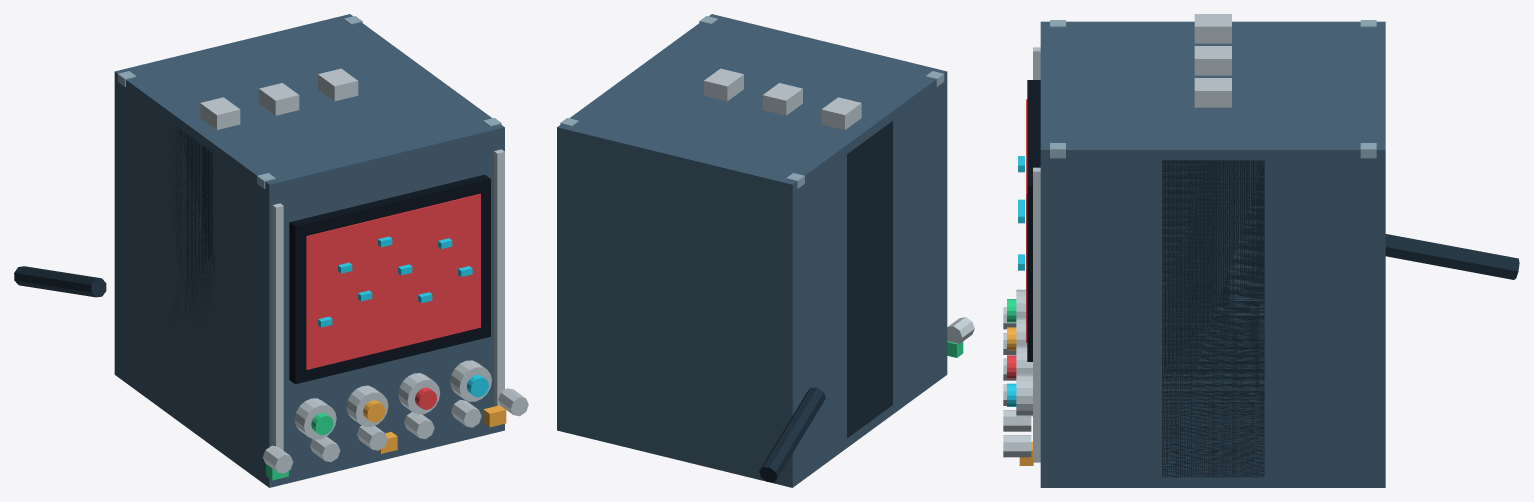
Rendered from 58_L80_EmergencyOpticalShutterStation.fbx.
3 views of the same model, side by side, from view 1: azimuth 30°, elevation 25°; view 2: azimuth 150°, elevation 25°; view 3: azimuth 270°, elevation 25° (orthographic). The views are drawn at different scales.
Parts seen in each view (by area): view 1: EmergencyOpticalShutterStation, EmergencyOpticalShutterStation_Part_0035; view 2: EmergencyOpticalShutterStation, EmergencyOpticalShutterStation_Part_0035; view 3: EmergencyOpticalShutterStation, EmergencyOpticalShutterStation_Part_0035.
Part boxes in pixels (bbox=[...]): EmergencyOpticalShutterStation: bbox=[14, 14, 528, 487]; EmergencyOpticalShutterStation_Part_0035: bbox=[169, 122, 214, 382]; EmergencyOpticalShutterStation: bbox=[557, 14, 974, 487]; EmergencyOpticalShutterStation_Part_0035: bbox=[847, 121, 892, 438]; EmergencyOpticalShutterStation: bbox=[1003, 14, 1519, 487]; EmergencyOpticalShutterStation_Part_0035: bbox=[1162, 160, 1264, 477].
Bounding box in the file's own units: 78.8 × 83.95 × 111.
